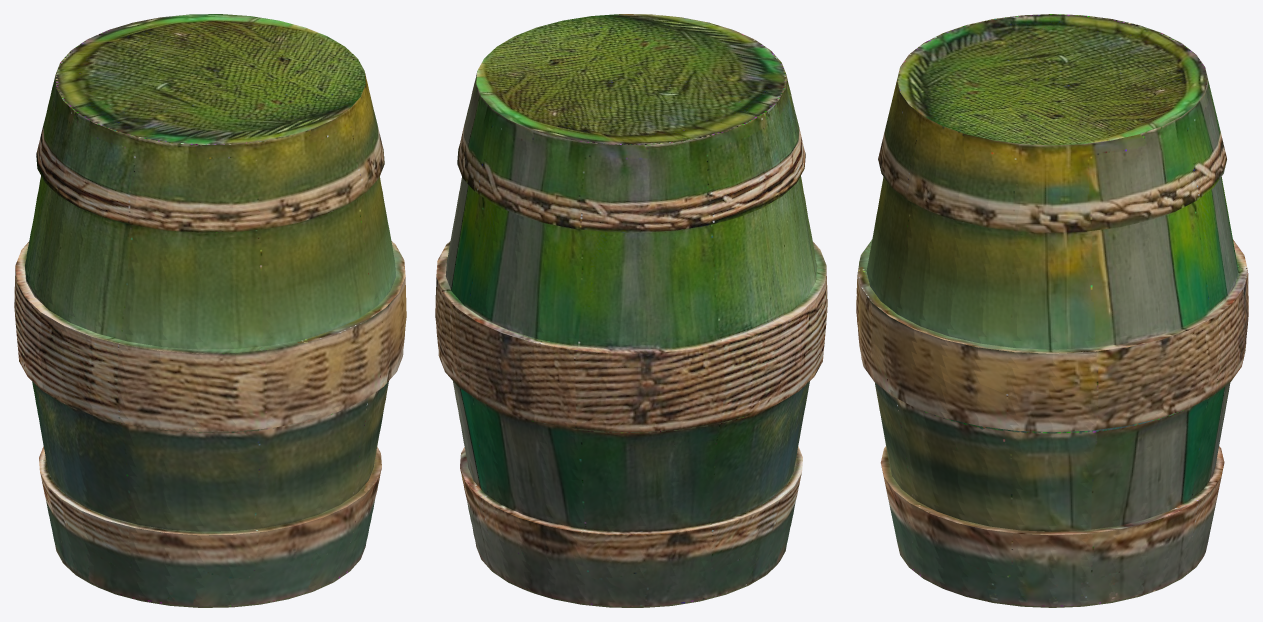
Rendered from Bamboo.glb.
3 renders of one model, left to right at view 1: azimuth 30°, elevation 25°; view 2: azimuth 150°, elevation 25°; view 3: azimuth 270°, elevation 25°, orthographic.
Visible parts, largest first — view 1: mesh; view 2: mesh; view 3: mesh.
Part boxes in pixels (left/top/right/bottom): mesh: left=14, top=14, right=406, bottom=607; mesh: left=435, top=14, right=827, bottom=607; mesh: left=856, top=14, right=1248, bottom=607.
Size of the model in its own units: 0.6556 by 0.8527 by 0.656.
Materials: 1 (1 with a texture image).
